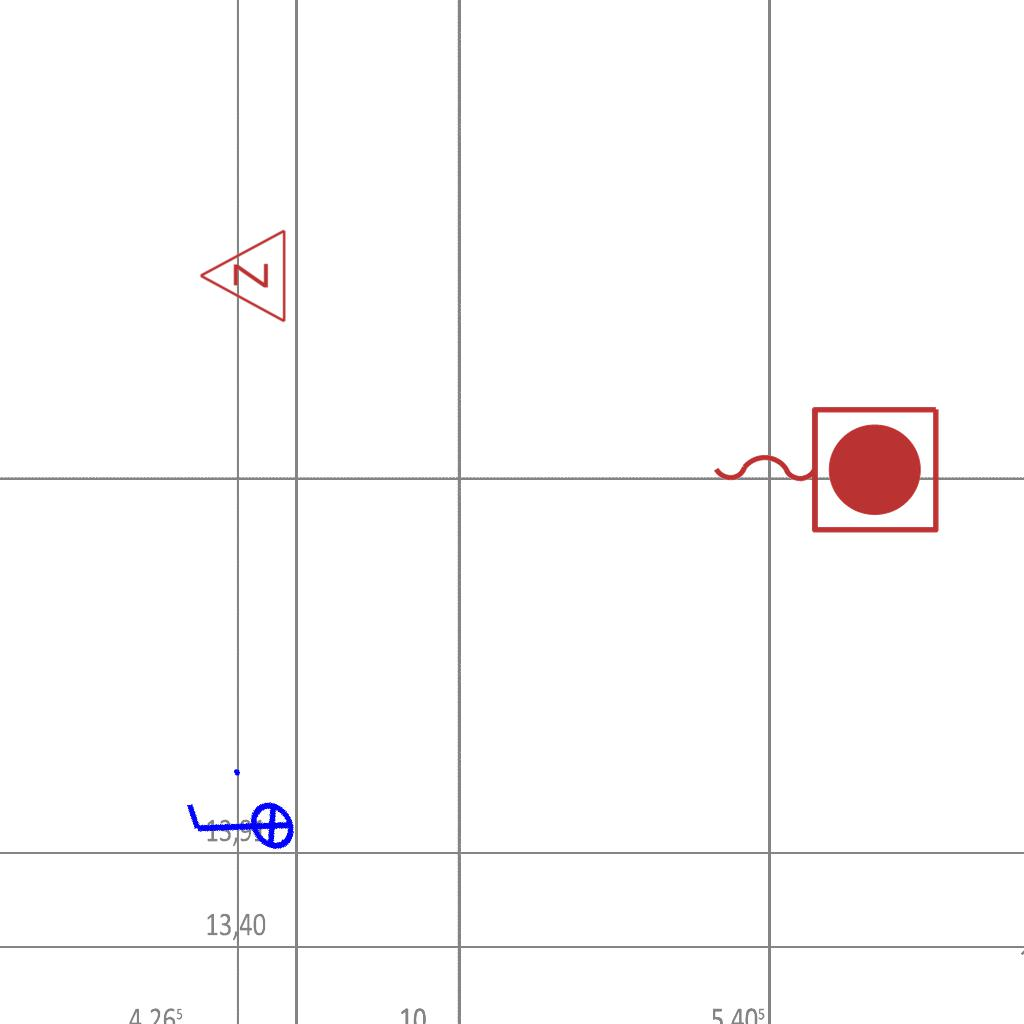Ausschalter_beleuchtet: (169, 752, 313, 900)
Zimmersignalleuchte: (193, 228, 293, 326)
Zugtaster: (703, 396, 947, 540)
